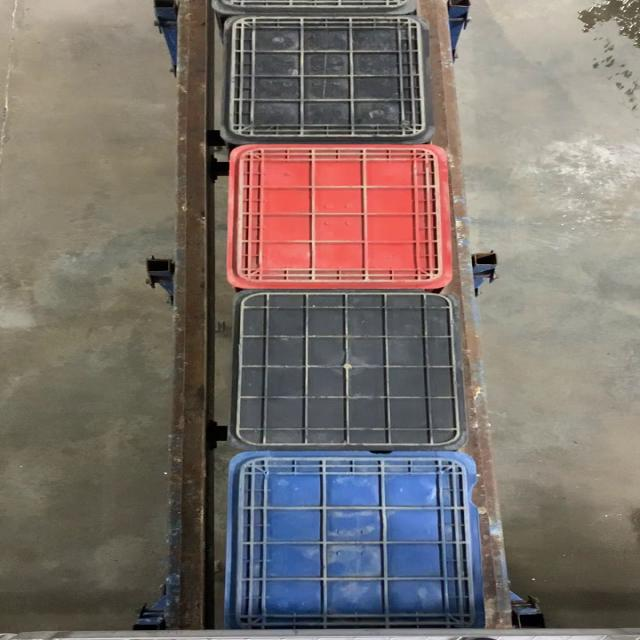Box: (228, 292, 470, 451), (228, 145, 456, 293), (222, 14, 439, 146)
